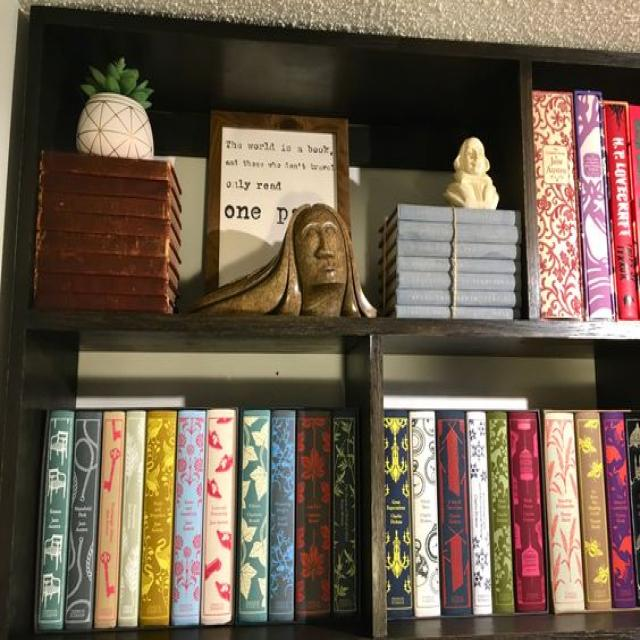book: (533, 91, 584, 319), (64, 411, 103, 630), (199, 409, 237, 623), (576, 95, 612, 317), (140, 411, 176, 626), (544, 413, 583, 611), (39, 410, 74, 630), (508, 411, 546, 610), (436, 411, 473, 615), (170, 410, 205, 624), (604, 107, 639, 320), (297, 411, 331, 620), (575, 413, 611, 609), (602, 411, 636, 609), (94, 412, 125, 627), (239, 411, 270, 621), (410, 412, 440, 616), (118, 411, 146, 627), (385, 409, 413, 616), (269, 410, 296, 621), (467, 411, 494, 615), (487, 411, 513, 613), (333, 412, 357, 613), (38, 191, 172, 221), (40, 152, 170, 182), (37, 211, 172, 237), (39, 174, 172, 200), (35, 253, 168, 278), (33, 274, 169, 297), (398, 221, 522, 246), (37, 234, 170, 257), (32, 292, 169, 314), (398, 203, 522, 225), (398, 240, 522, 261), (398, 289, 522, 307), (399, 273, 523, 290), (397, 260, 522, 275), (396, 306, 521, 320)
